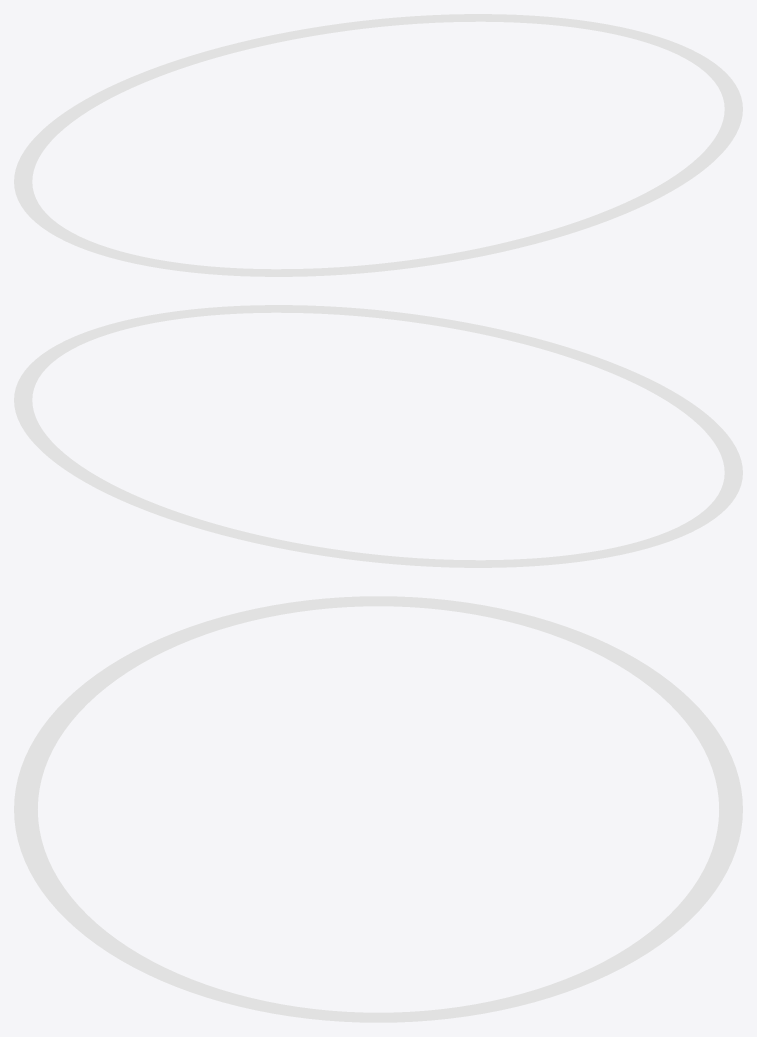
The model's file is plaza-ring.glb.
The picture shows the model from 3 angles, top to bottom: view 1: azimuth 30°, elevation 25°; view 2: azimuth 150°, elevation 25°; view 3: azimuth 270°, elevation 25°; orthographic projection. The views are drawn at different scales.
Visible parts, largest first — view 1: plat; view 2: plat; view 3: plat.
Boxes of the visible parts, bbox=[...] form: plat: bbox=[14, 14, 742, 276]; plat: bbox=[14, 305, 742, 567]; plat: bbox=[14, 596, 742, 1022].
Bounding box in the file's own units: 36 × 0 × 26.
1 material, 1 textured.
